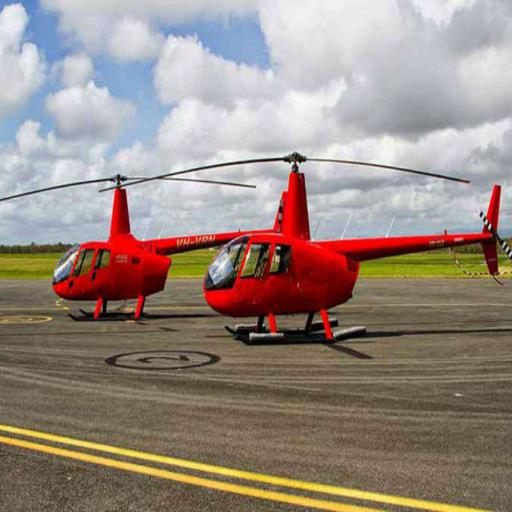helicopter: (128, 150, 511, 347), (1, 172, 270, 313)
